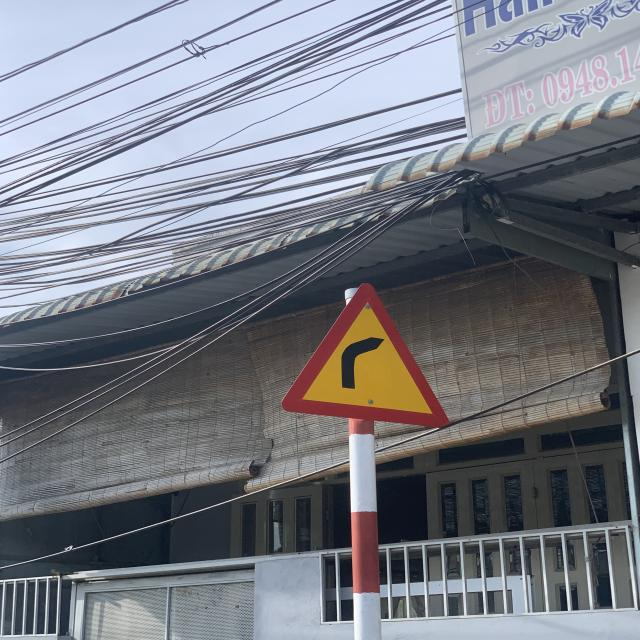Duong_Nguoi_Di_Bo_Cat_Ngang: (276, 282, 452, 427)
